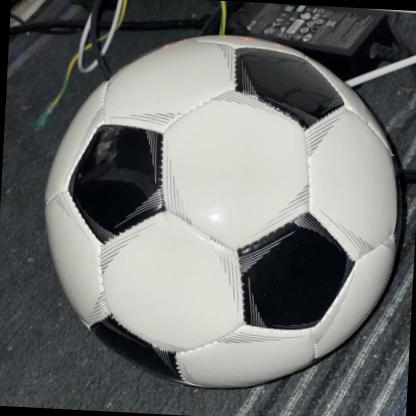ball: (34, 26, 410, 398)
